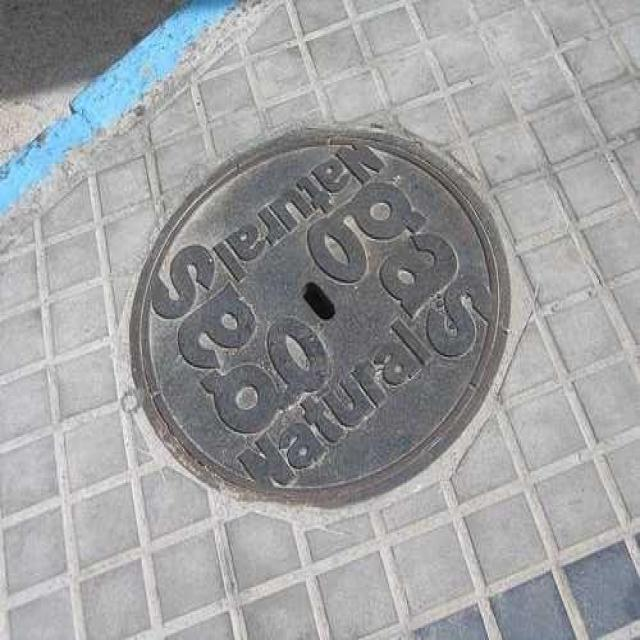manhole: (130, 130, 509, 506)
